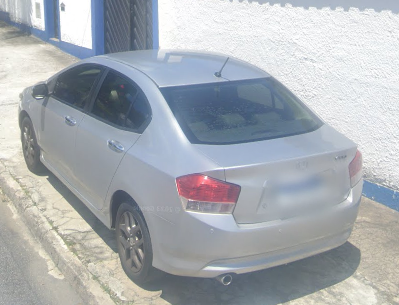car: (18, 51, 364, 286)
